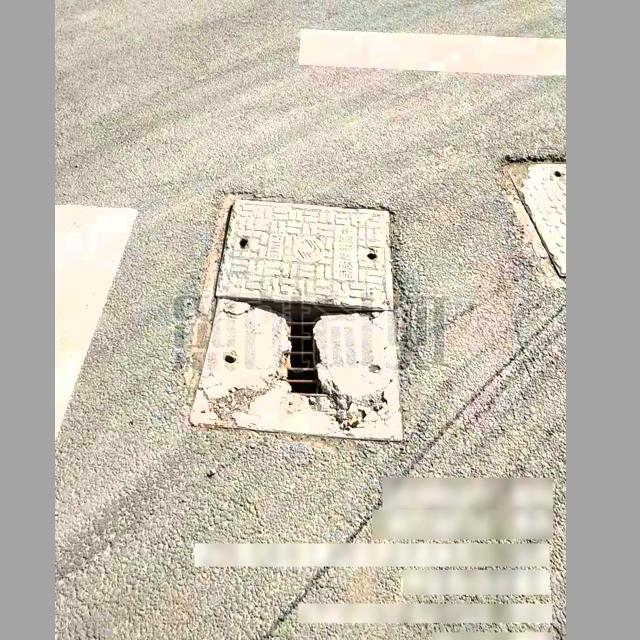broke: (186, 199, 406, 443)
